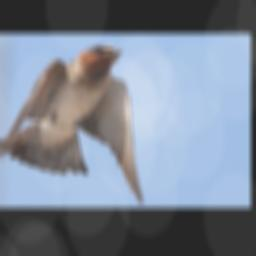Swallow: (0, 45, 144, 206)
